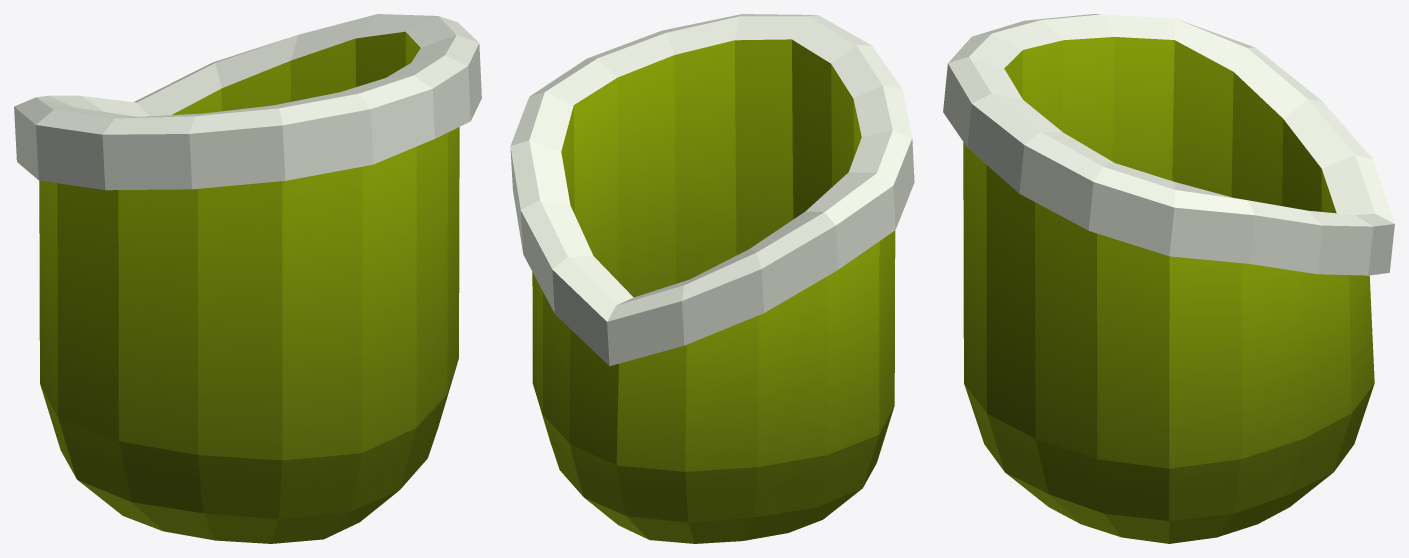
File: PlantPot_46.fbx
3 views of the same model, side by side, from view 1: azimuth 30°, elevation 25°; view 2: azimuth 150°, elevation 25°; view 3: azimuth 270°, elevation 25° (orthographic). The views are drawn at different scales.
Visible parts, largest first — view 1: PlantPot_46; view 2: PlantPot_46; view 3: PlantPot_46.
Boxes of the visible parts, x1,y1,x2,y2 form: PlantPot_46: (14,14,481,543); PlantPot_46: (510,14,914,543); PlantPot_46: (943,14,1394,543).
Bounding box in the file's own units: 21.42 × 22.9 × 21.77.
